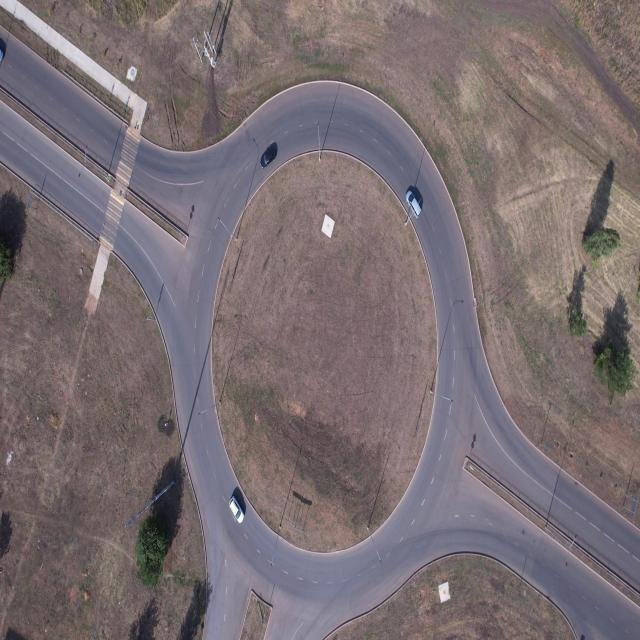Car: (212, 481, 252, 536), (256, 134, 287, 180), (401, 180, 427, 223)
